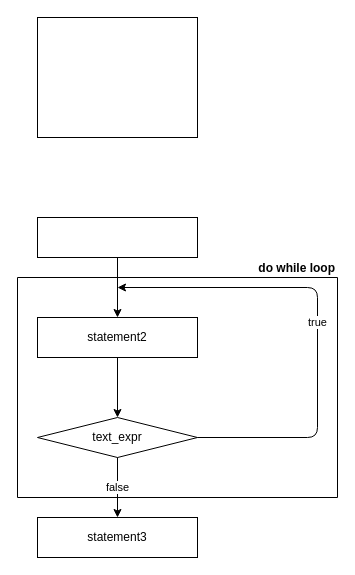
Image size: 355x575. Some labels were removed from this diagram. Here are the shapes that lost their labels. From the top down, the box of each, then its label:
(36, 16, 198, 138): statement1 do statement2 while (text_expr); statement3
(36, 216, 198, 258): statement1
